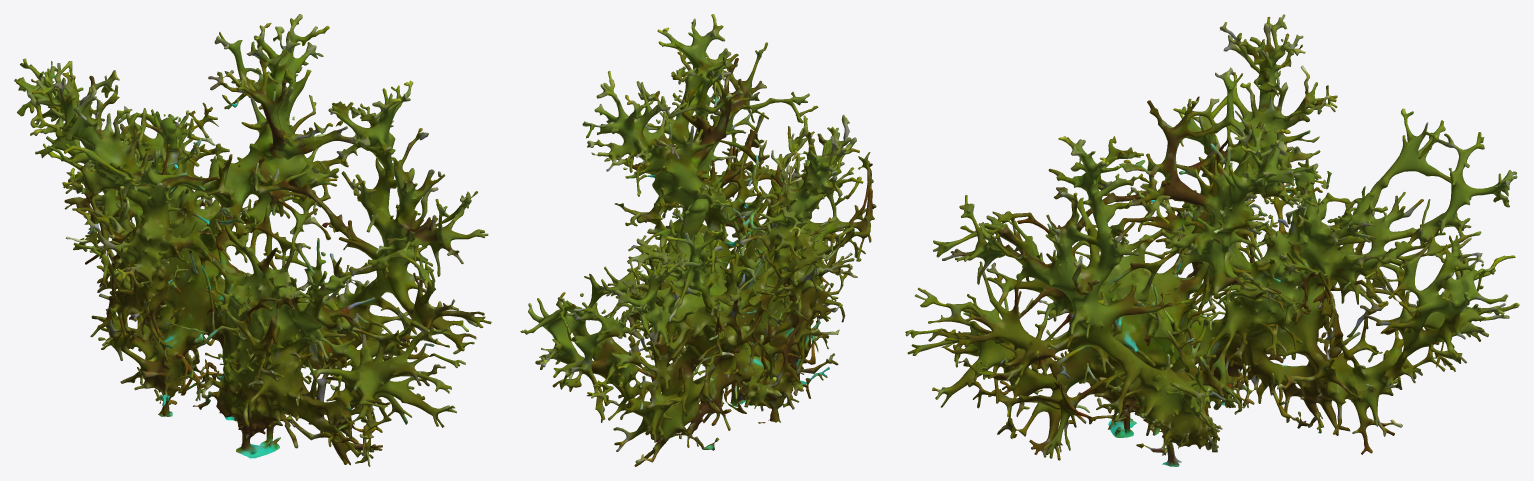
The model's file is liquen5.glb.
The picture shows the model from 3 angles, left to right: view 1: azimuth 30°, elevation 25°; view 2: azimuth 150°, elevation 25°; view 3: azimuth 270°, elevation 25°; orthographic projection. The views are drawn at different scales.
Visible parts, largest first — view 1: tripo_node_8f64d681-7549-4f77-8bf7-fb40d0d805a1; view 2: tripo_node_8f64d681-7549-4f77-8bf7-fb40d0d805a1; view 3: tripo_node_8f64d681-7549-4f77-8bf7-fb40d0d805a1.
Part boxes in pixels (x1=…): tripo_node_8f64d681-7549-4f77-8bf7-fb40d0d805a1: x1=14, y1=14, x2=491, y2=466; tripo_node_8f64d681-7549-4f77-8bf7-fb40d0d805a1: x1=520, y1=14, x2=876, y2=466; tripo_node_8f64d681-7549-4f77-8bf7-fb40d0d805a1: x1=905, y1=14, x2=1519, y2=466.
Size of the model in its own units: 0.5895 by 0.676 by 1.
1 material, 1 textured.
